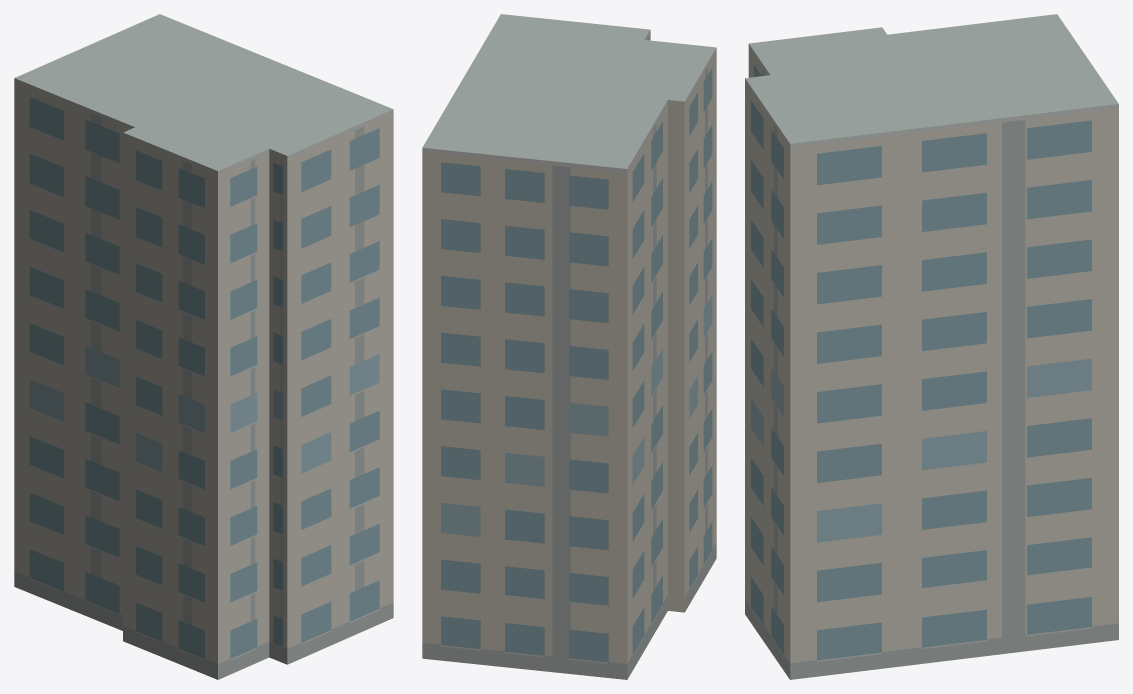
Rendered from survey-upis-32784720.glb.
3 renders of one model, left to right at view 1: azimuth 30°, elevation 25°; view 2: azimuth 150°, elevation 25°; view 3: azimuth 270°, elevation 25°, orthographic. The views are drawn at different scales.
Parts seen in each view (by area): view 1: survey-upis-32784720.tmp; view 2: survey-upis-32784720.tmp; view 3: survey-upis-32784720.tmp.
Boxes of the visible parts, <box> form: survey-upis-32784720.tmp: <box>14,14,393,679</box>; survey-upis-32784720.tmp: <box>422,14,716,679</box>; survey-upis-32784720.tmp: <box>745,14,1118,679</box>.
Bounding box in the file's own units: 15.18 × 29.2 × 18.46.
